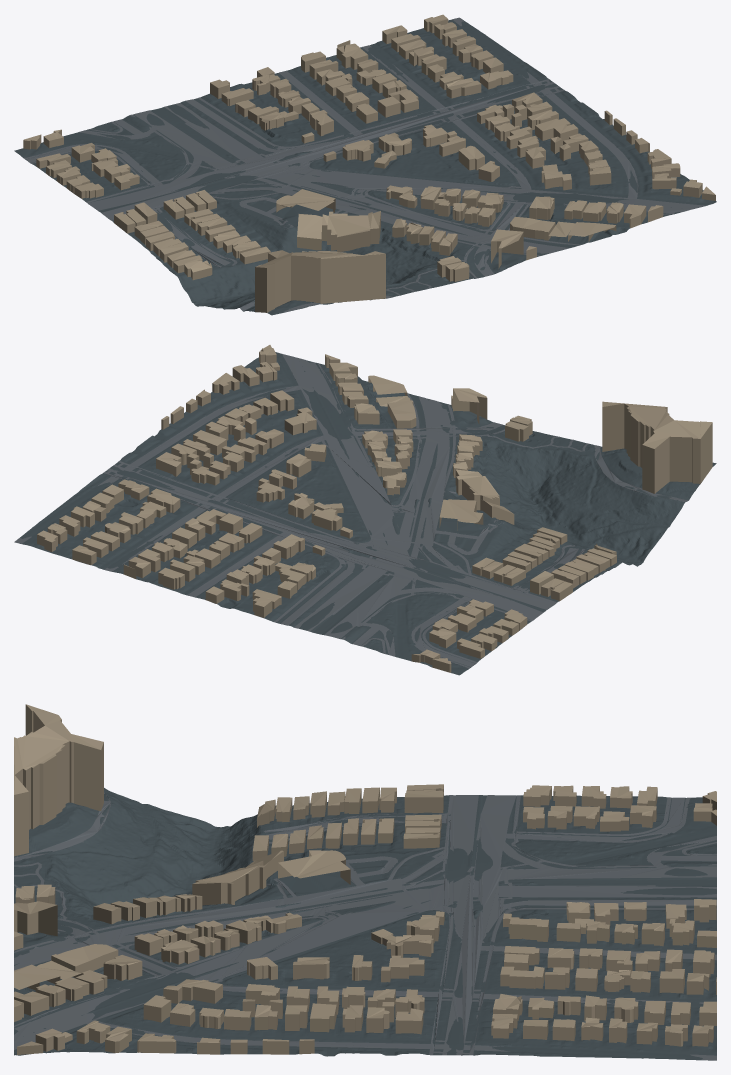
File: epsg26910-1423-10876.lod0.glb
3 renders of one model, top to bottom at view 1: azimuth 30°, elevation 25°; view 2: azimuth 150°, elevation 25°; view 3: azimuth 270°, elevation 25°, orthographic. The views are drawn at different scales.
Visible parts, largest first — view 1: epsg26910-1423-10876-lod0; view 2: epsg26910-1423-10876-lod0; view 3: epsg26910-1423-10876-lod0.
Boxes of the visible parts, <box> form: epsg26910-1423-10876-lod0: <box>14,14,716,315</box>; epsg26910-1423-10876-lod0: <box>14,345,716,675</box>; epsg26910-1423-10876-lod0: <box>14,704,716,1060</box>.
Bounding box in the file's own units: 384 × 74.15 × 384.
